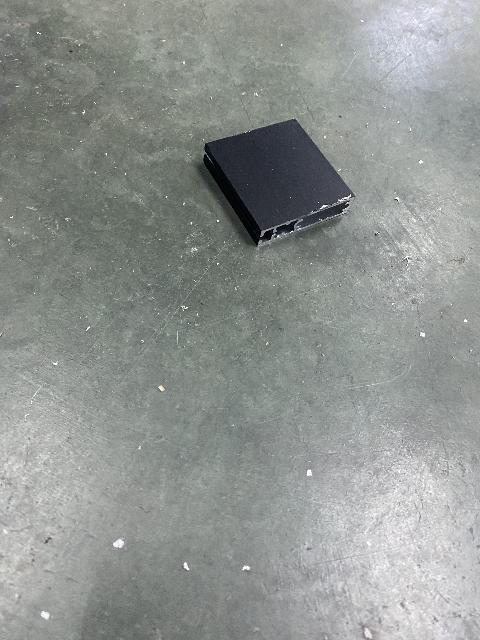Metal: (194, 110, 362, 248)
